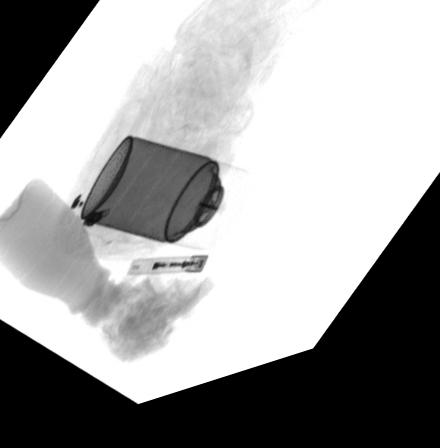Lighter: (126, 266, 207, 285)
Sprayer: (79, 143, 252, 264)
